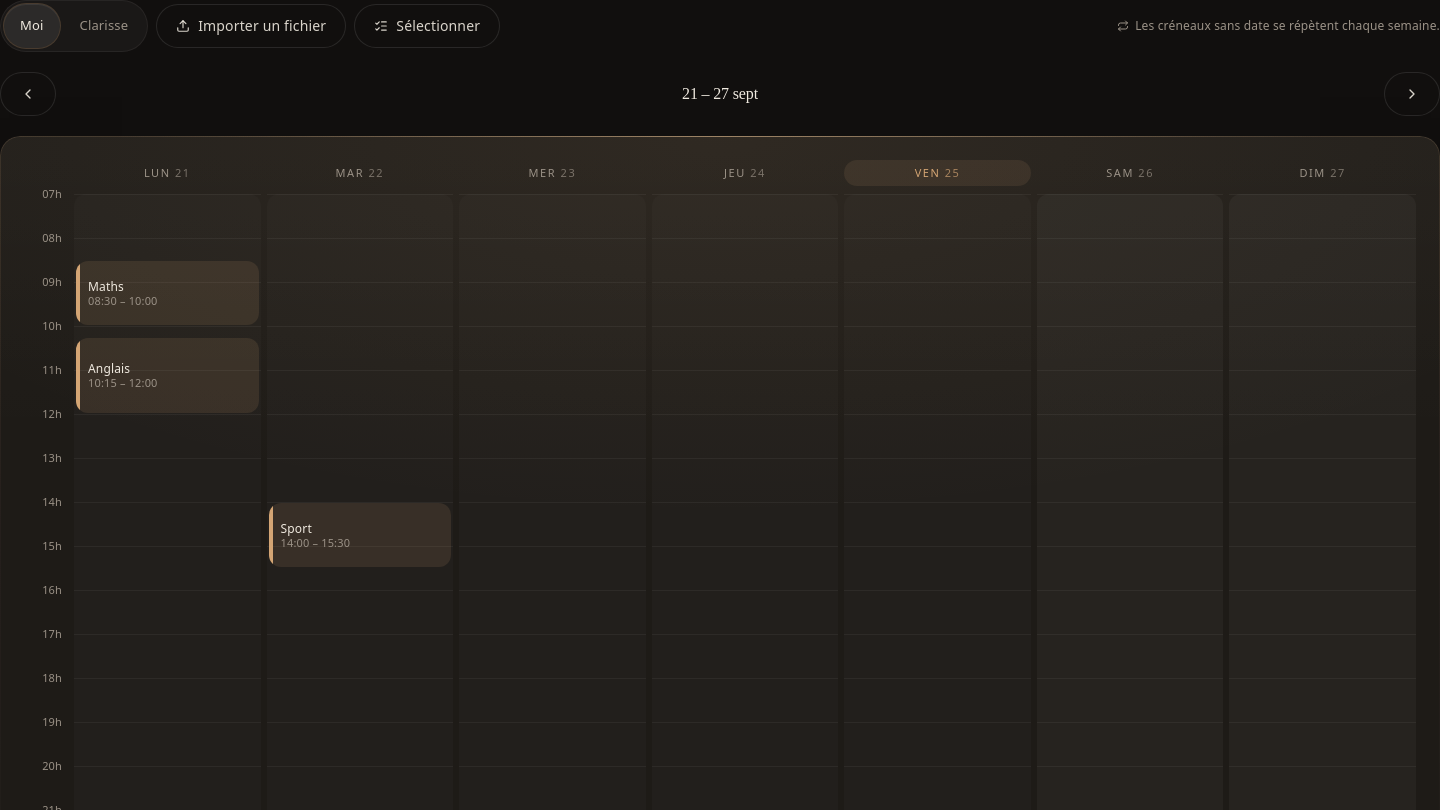
Test case: Emploi du temps — mode sélection et suppression multiple › ne supprime que les créneaux cochés, et seulement les miens
Click the button "Sélectionner". click: (427, 26)
box: [354, 4, 500, 48]
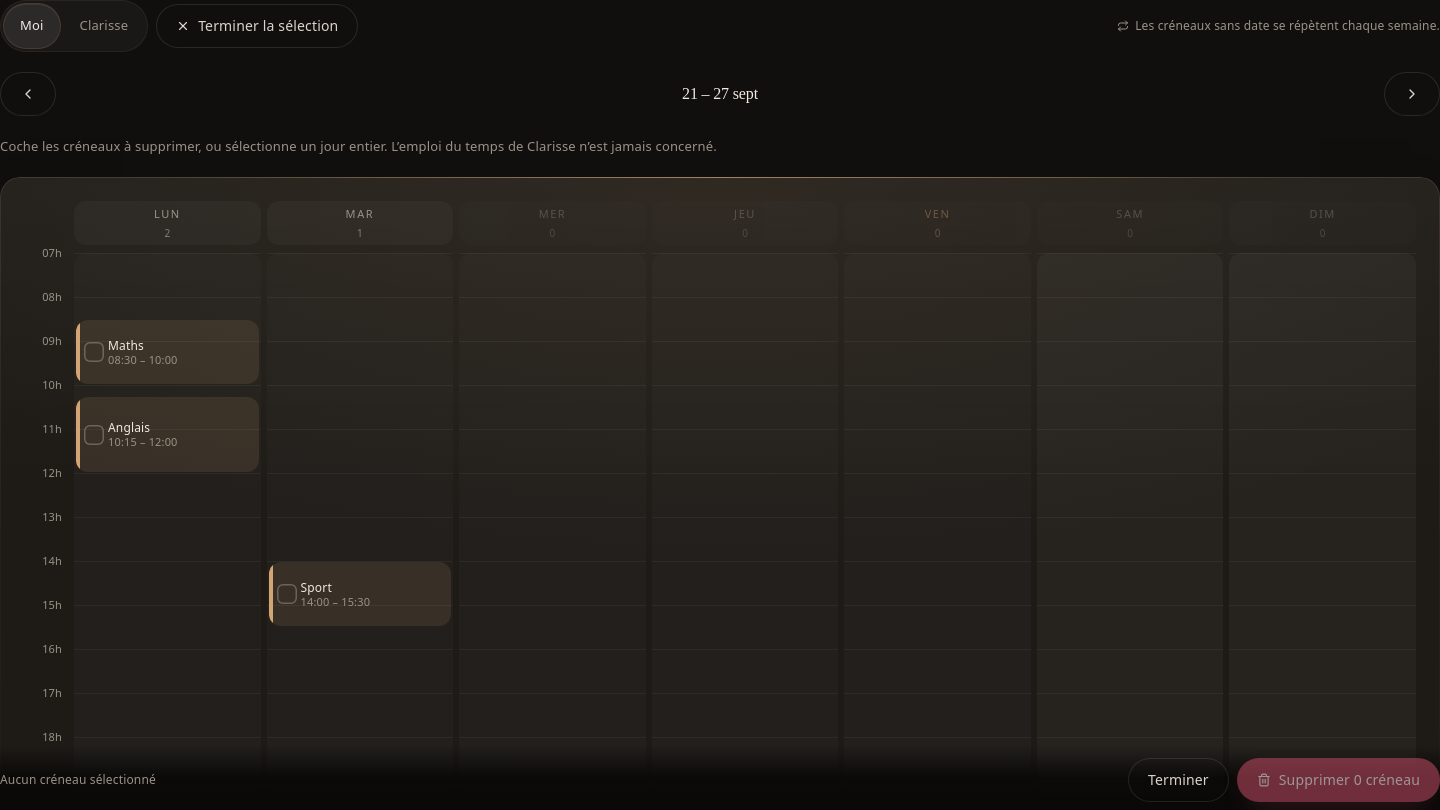
Click the checkbox named "Sélectionner Maths". click: (167, 352)
box: [76, 320, 259, 384]
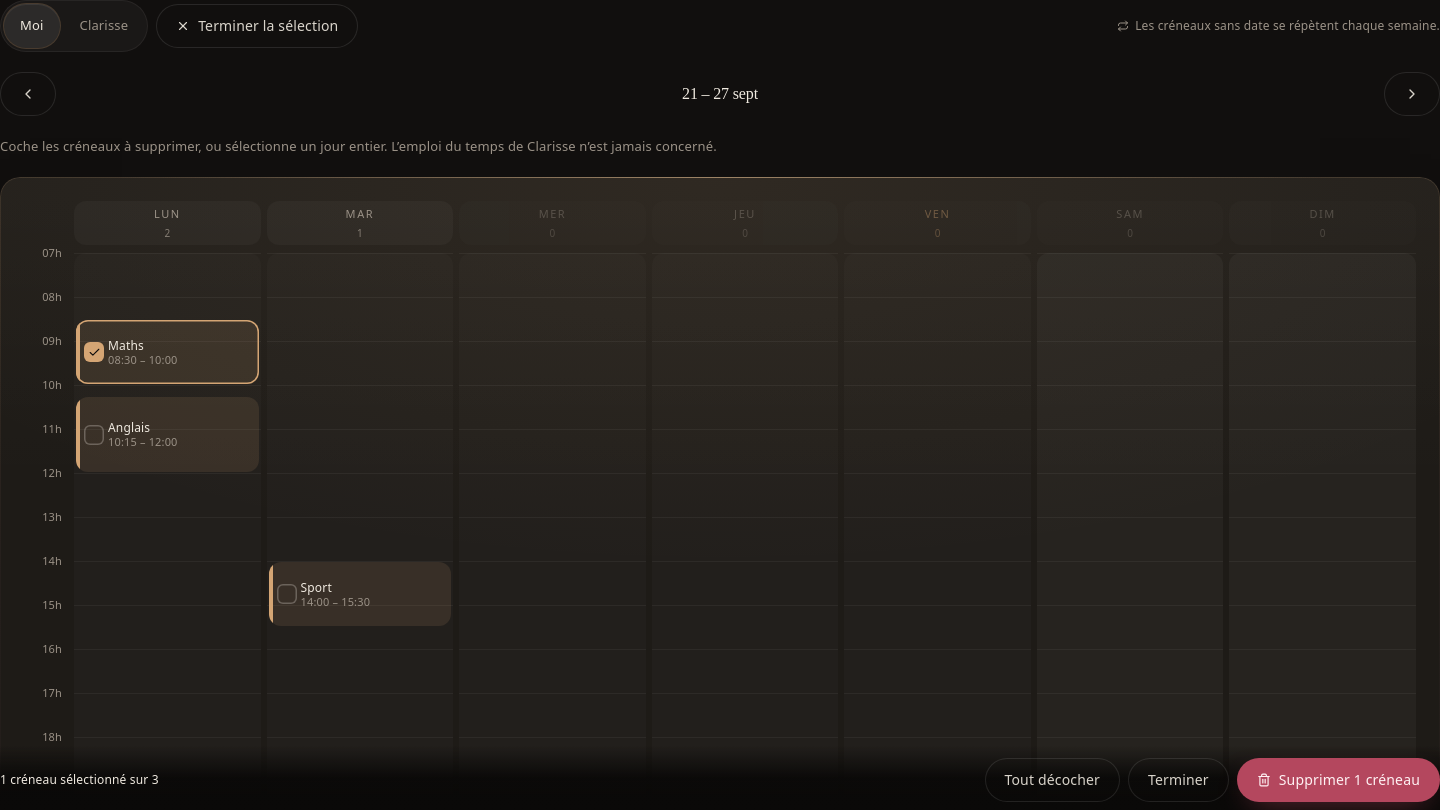
Click the checkbox named "Sélectionner Sport". click: (360, 594)
box: [269, 562, 451, 626]
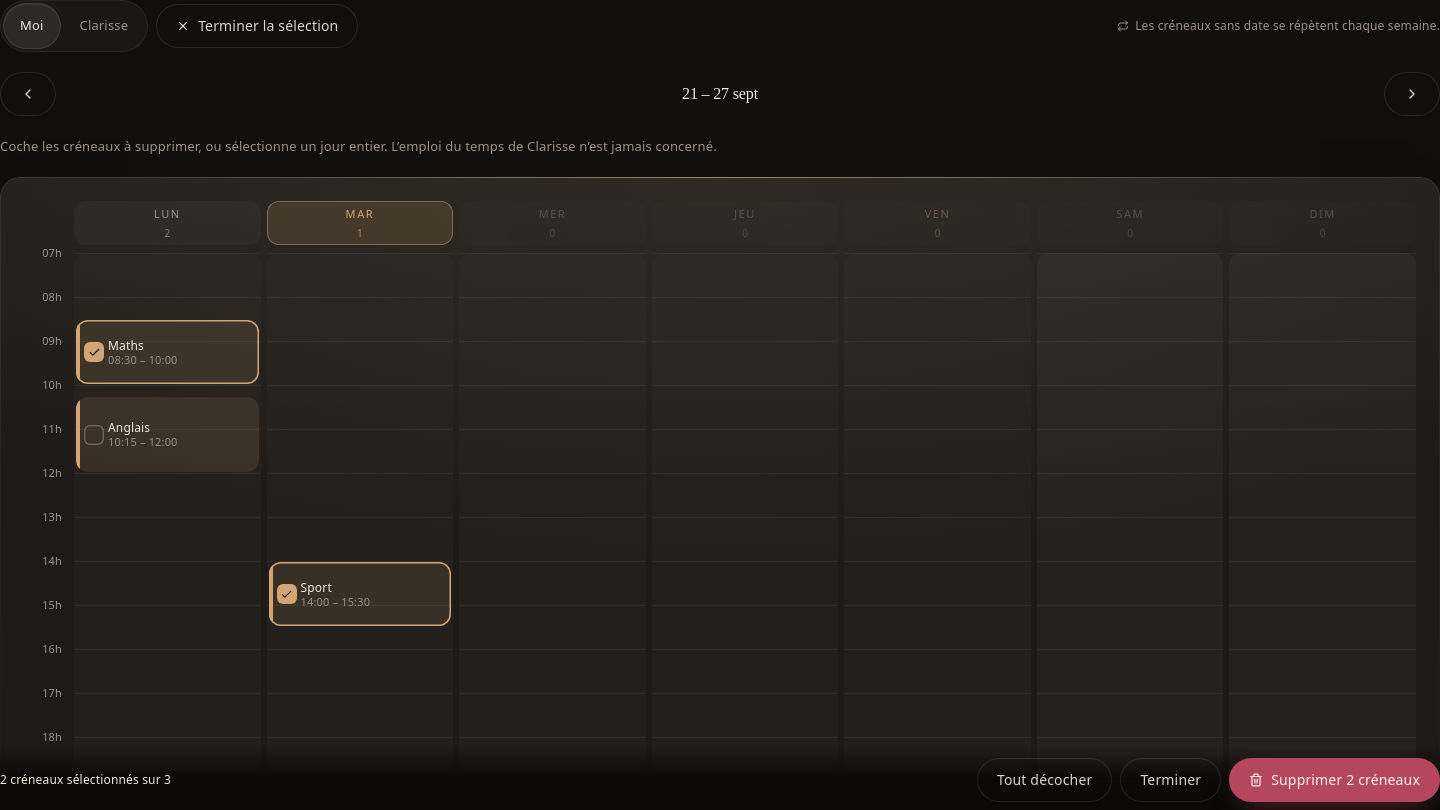
Result: the text "2 créneaux sélectionnés sur 3" is shown at [0, 771, 171, 788]
Click the button "Supprimer 2 créneaux". click: (1335, 780)
box: [1229, 758, 1439, 802]
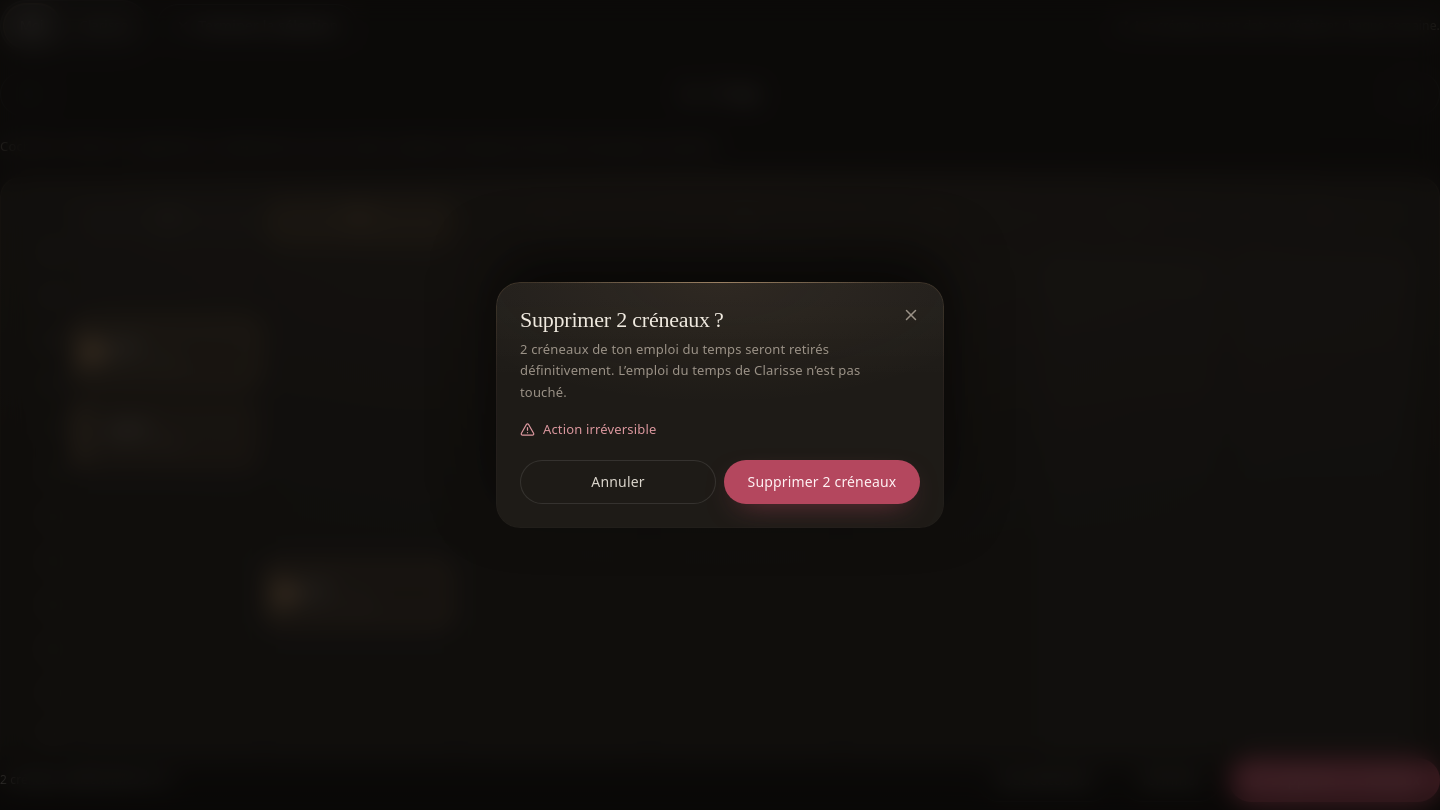
Result: the text "L’emploi du temps de Clarisse n’est pas touché" is shown at [520, 340, 860, 401]
Click the button "Supprimer 2 créneaux". click: (822, 482)
box: [724, 460, 920, 504]
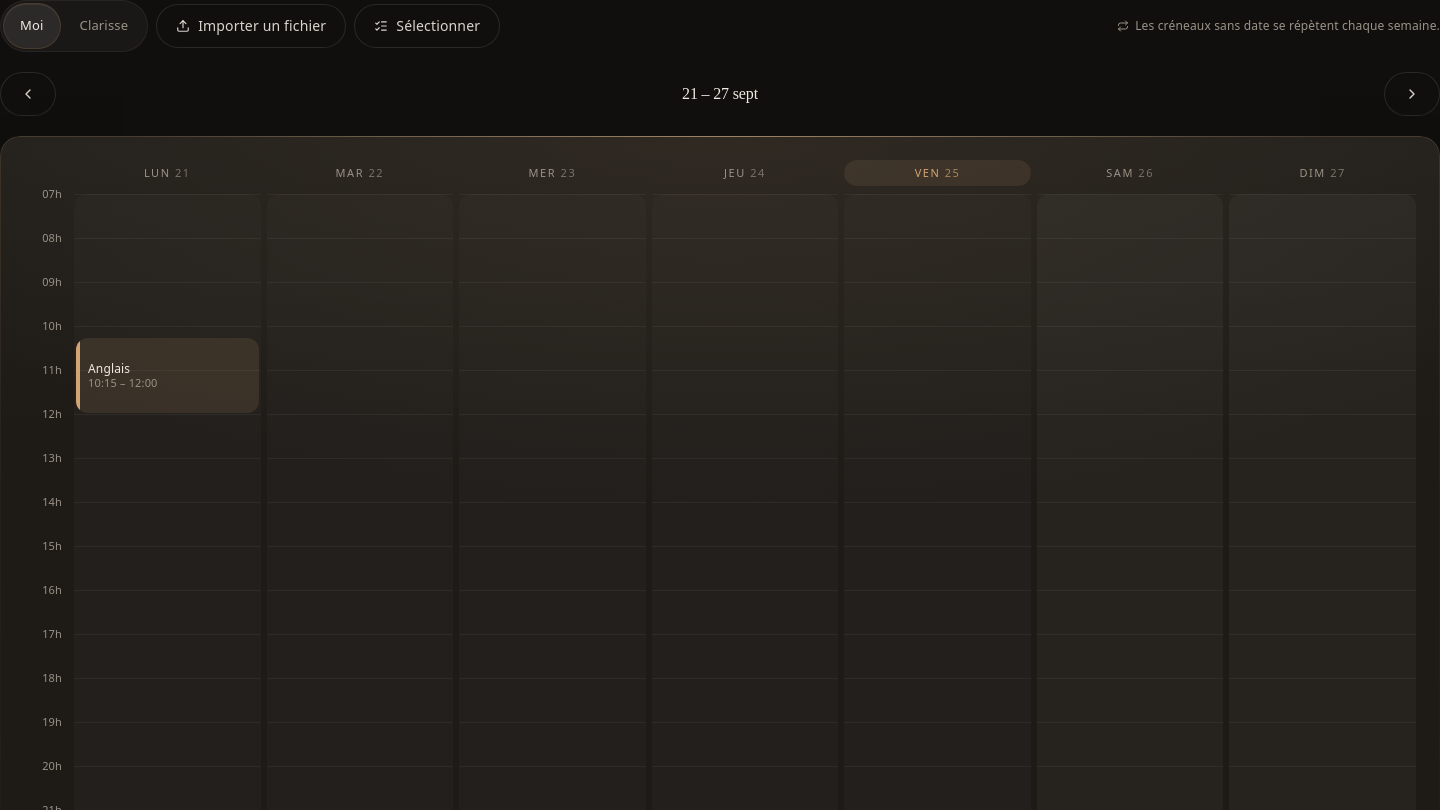
Expected: the text "Anglais" is shown, [88, 360, 130, 377]
Result: the button "Sélectionner" is shown at [354, 4, 500, 48]
Result: the checkbox "Maths" is gone
